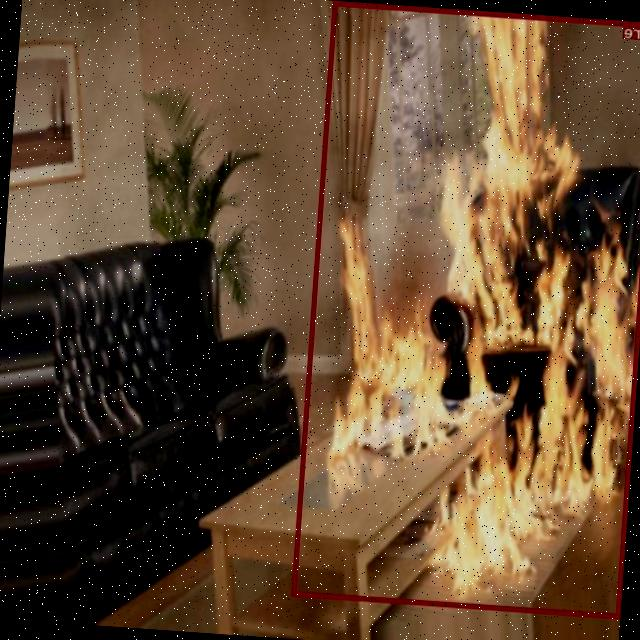fire: (291, 0, 640, 617)
